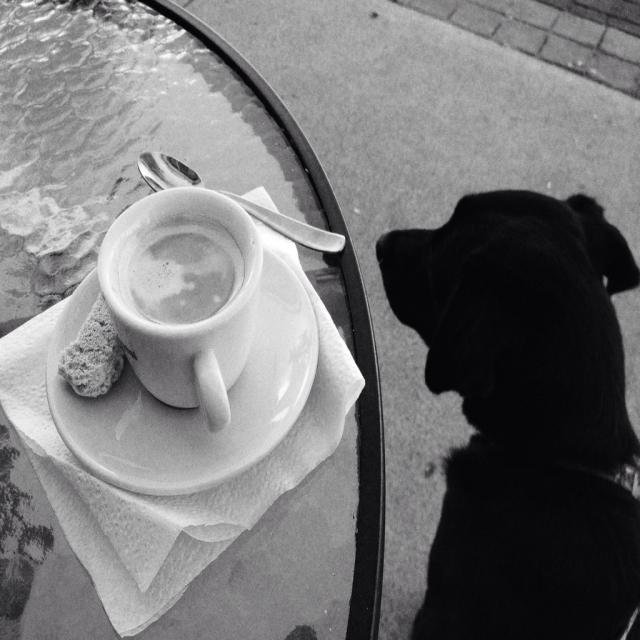Coffee: (128, 212, 246, 332)
